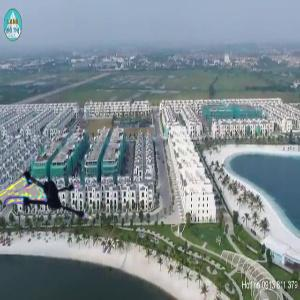drone: (10, 158, 97, 245)
